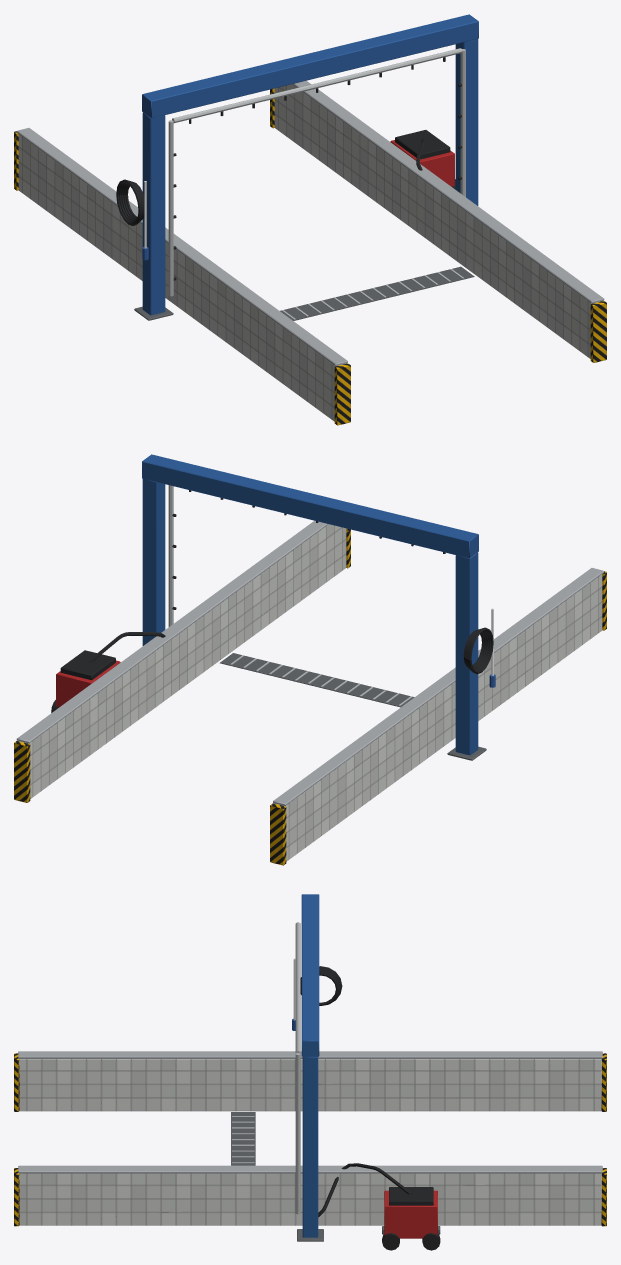
File: wash_bay.glb
3 renders of one model, top to bottom at view 1: azimuth 30°, elevation 25°; view 2: azimuth 150°, elevation 25°; view 3: azimuth 270°, elevation 25°, orthographic. The views are drawn at different scales.
Parts seen in each view (by area): view 1: wash_bay; view 2: wash_bay; view 3: wash_bay.
Boxes of the visible parts, x1,y1,x2,y2 form: wash_bay: (14, 14, 606, 425); wash_bay: (14, 454, 606, 865); wash_bay: (14, 894, 606, 1250).
Bounding box in the file's own units: 17.29 × 9.8 × 26.48.
Materials: 12 (2 with a texture image).
